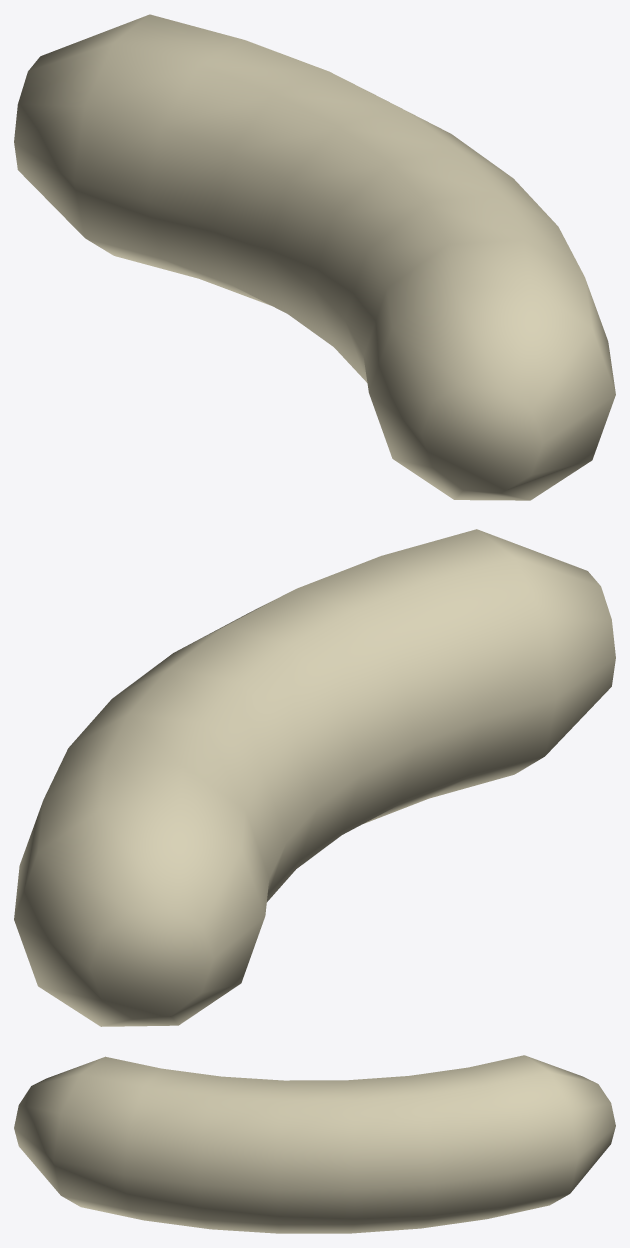
Rendered from Fylgja.fbx.
3 renders of one model, top to bottom at view 1: azimuth 30°, elevation 25°; view 2: azimuth 150°, elevation 25°; view 3: azimuth 270°, elevation 25°, orthographic. The views are drawn at different scales.
Visible parts, largest first — view 1: Fylgja; view 2: Fylgja; view 3: Fylgja.
Part boxes in pixels (bbox=[...]): Fylgja: bbox=[14, 14, 615, 500]; Fylgja: bbox=[14, 529, 615, 1026]; Fylgja: bbox=[14, 1055, 615, 1233].
Bounding box in the file's own units: 108 × 76.08 × 312.
